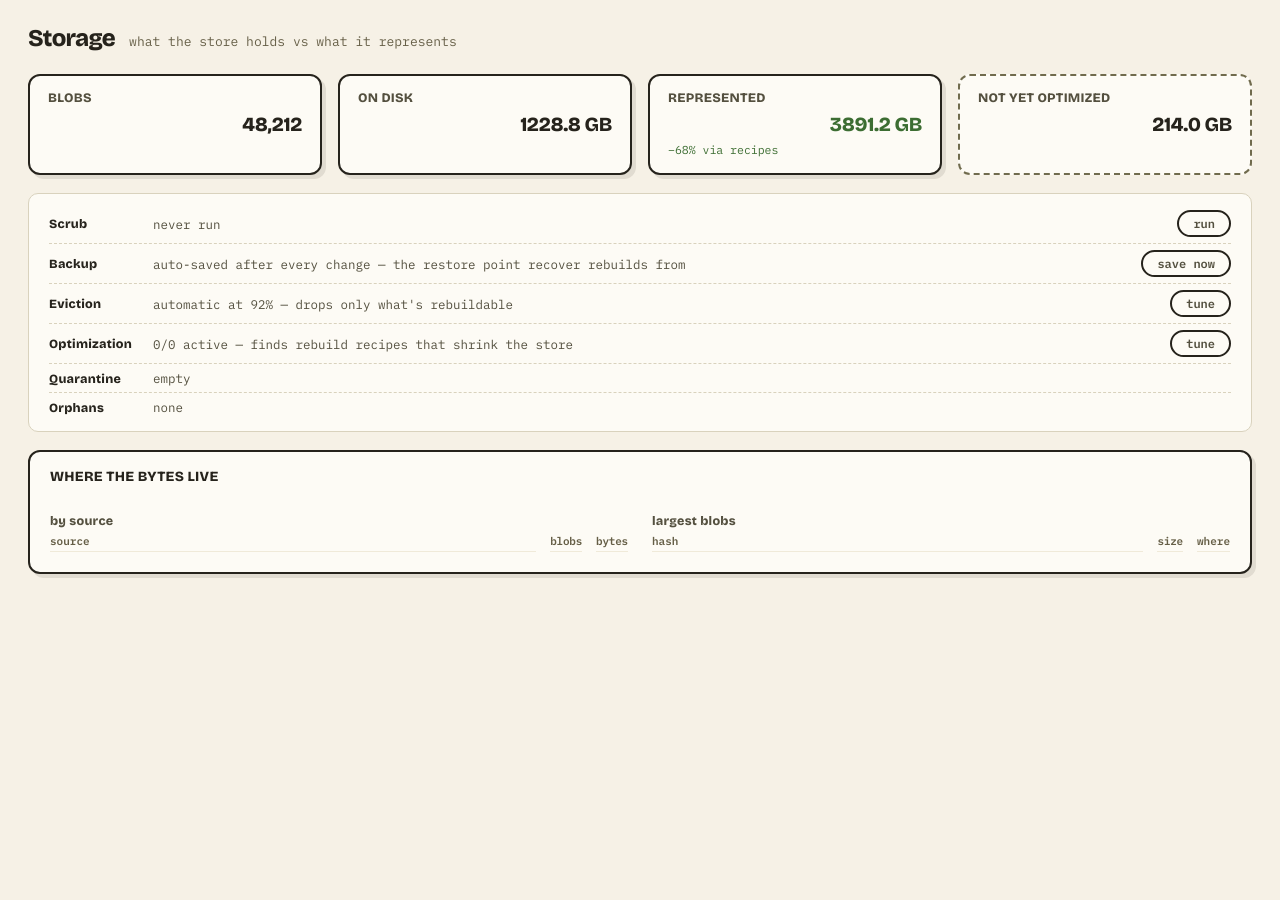
Test: eviction row shows the live watermark and opens the tuning panel
Expected: the text "BLOBS" is shown, [48,90,92,106]
Expected: the text "automatic at 92% — drops only what's rebuildable" is shown, [153,296,513,312]
Click the button "tune" in the row of "Eviction": {"x": 1201, "y": 304} [1170,290,1231,317]
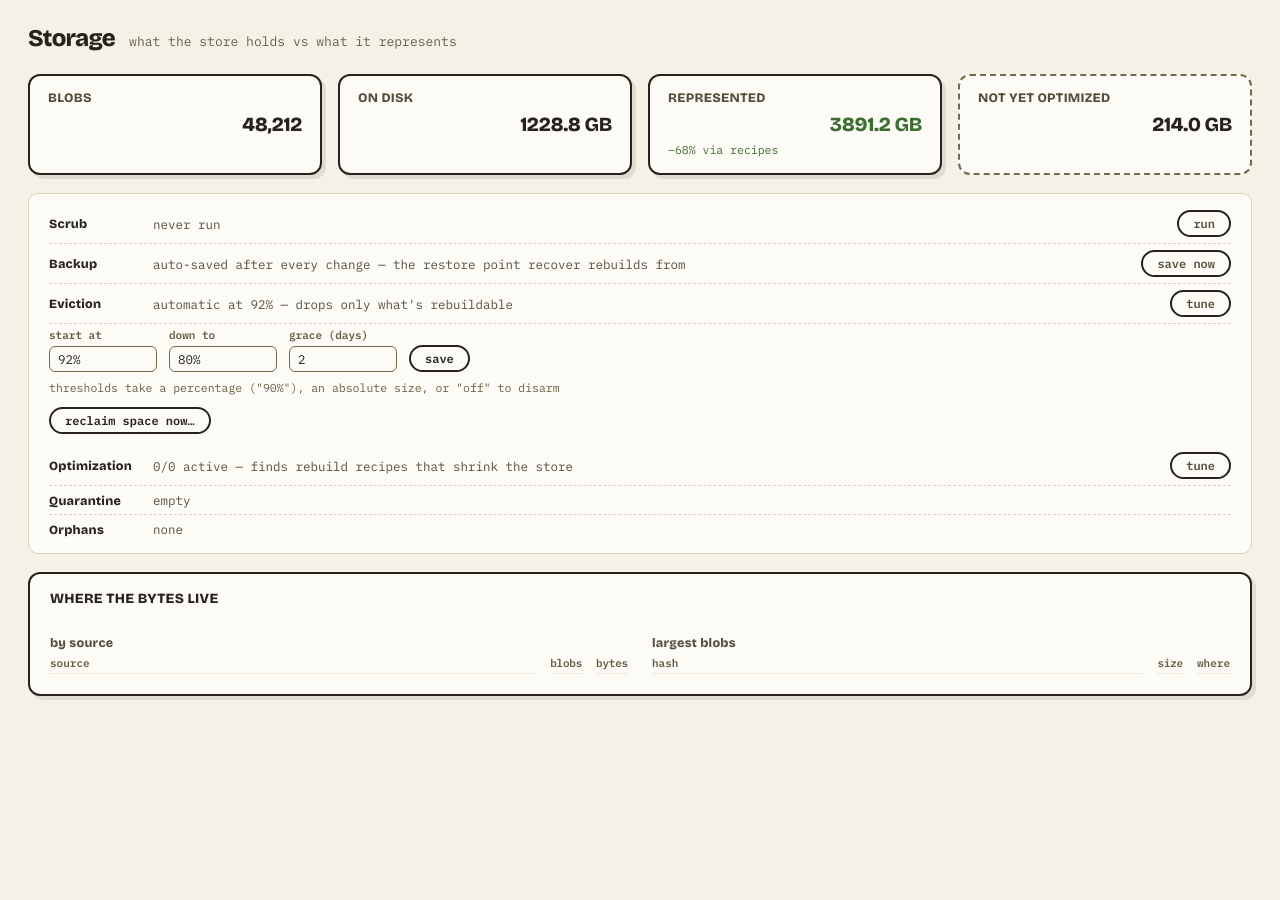
Result: the field with placeholder "90%" holds "92%" at [49,346,157,372]
Result: the field with placeholder "85%" holds "80%" at [169,346,277,372]
